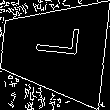L_W: (27, 31, 80, 68)
